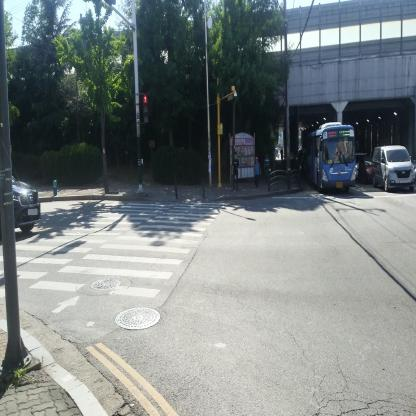Red: (143, 94, 149, 122)
